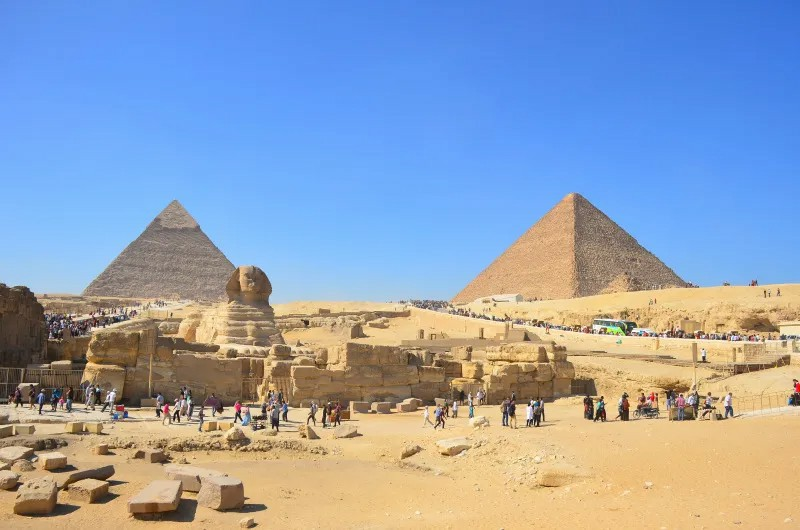Pyramid: (449, 193, 697, 308), (77, 199, 239, 302)
